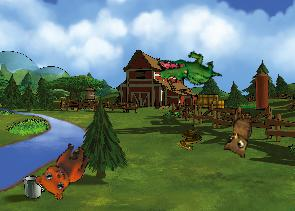bear: (31, 134, 93, 204)
crocodile: (155, 44, 222, 95)
owl: (222, 110, 252, 158)
